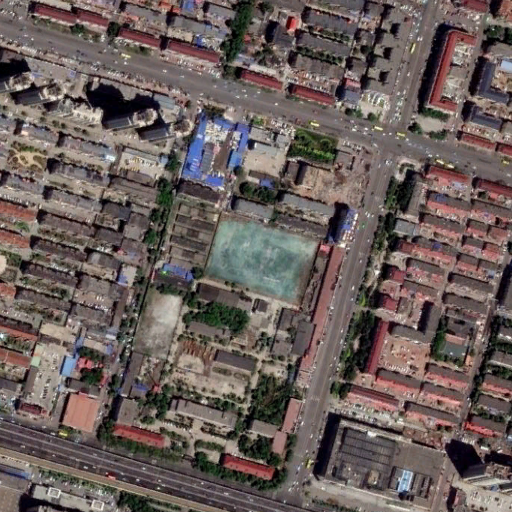cw: (205, 210, 322, 309)
